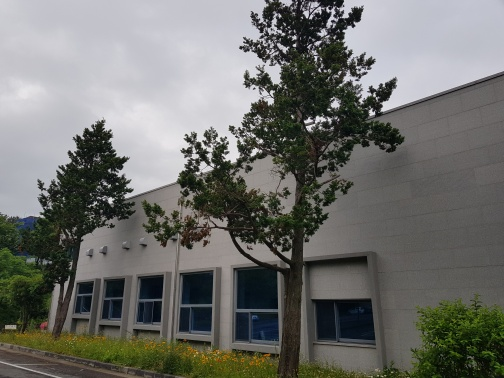College of Social Sciences: (50, 121, 497, 368), (67, 246, 230, 350)
